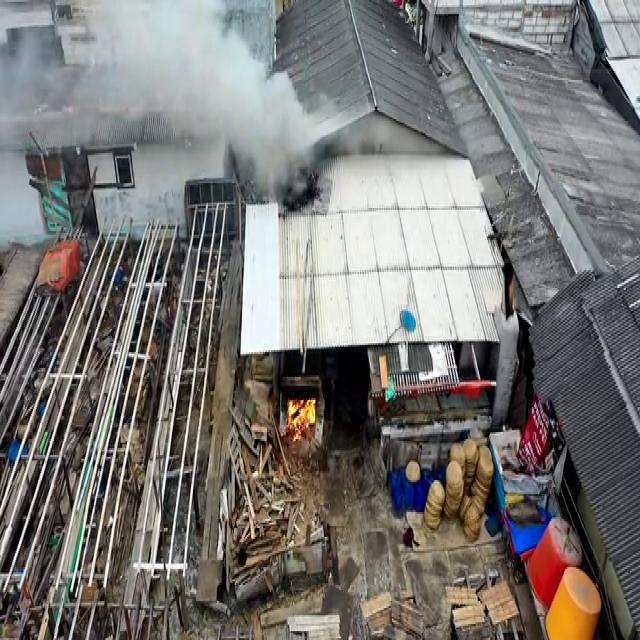smoke: (76, 0, 178, 134), (166, 3, 228, 140), (231, 77, 286, 184), (272, 130, 312, 178), (284, 87, 313, 141), (228, 27, 264, 69)
